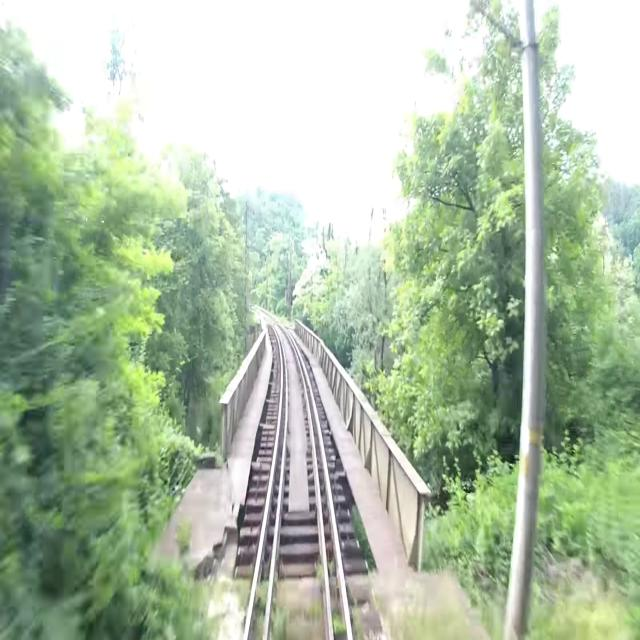rail-track: (255, 308, 326, 639), (307, 385, 347, 639), (248, 369, 284, 639)
